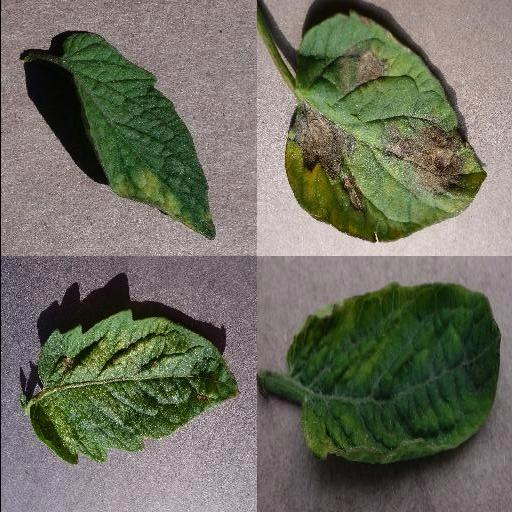Late Blight: (283, 11, 487, 245)
Leaf Mold: (61, 31, 217, 239)
Spider Mites: (29, 309, 239, 465)
Yellow Leaf Curl Virus: (287, 281, 501, 465)
